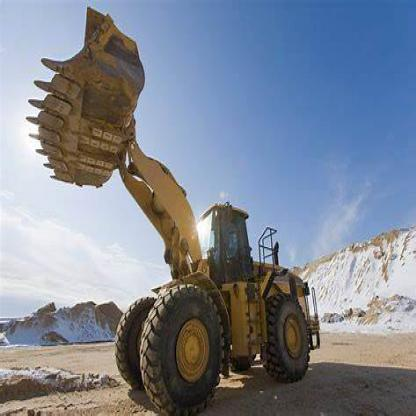bull_dozer/loader/grader: (20, 0, 328, 415)
